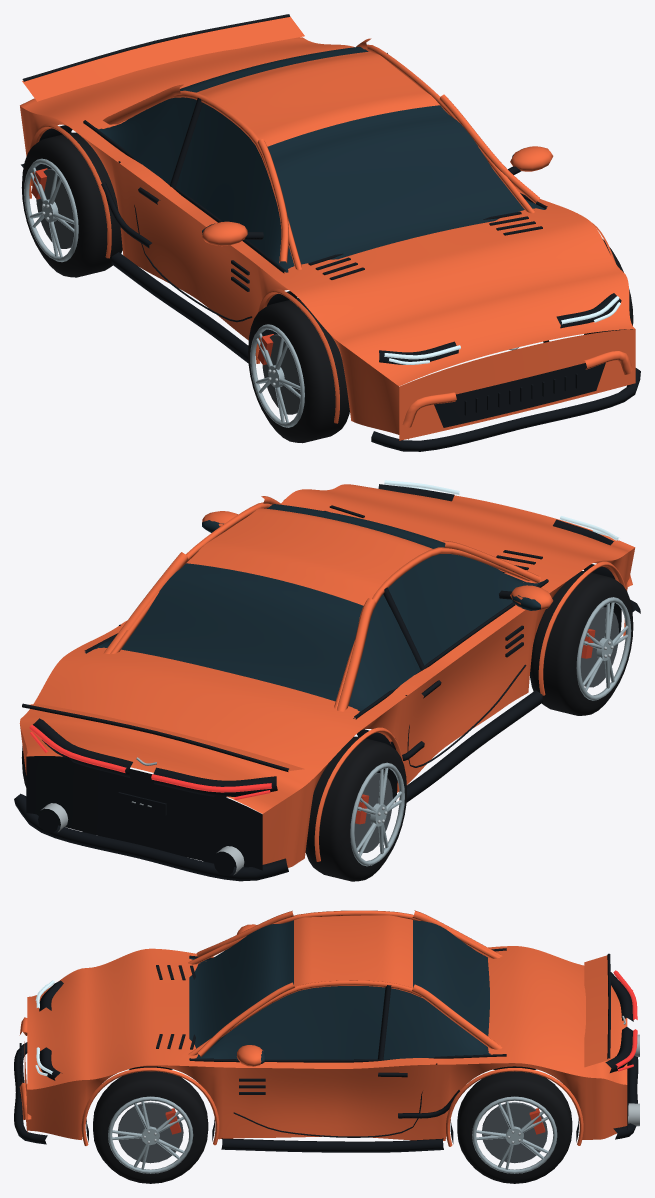
Rendered from kestrel-gt.glb.
3 views of the same model, one above another, from view 1: azimuth 30°, elevation 25°; view 2: azimuth 150°, elevation 25°; view 3: azimuth 270°, elevation 25° (orthographic). The views are drawn at different scales.
Visible parts, largest first — view 1: Kestrel_paint, Kestrel_glass, Kestrel_graphite, wheel_front_left_spin, wheel_rear_left_spin, Kestrel_wheel_finish (×2), wheel_front_left, wheel_rear_left, Kestrel_headlamps; view 2: Kestrel_paint, Kestrel_glass, Kestrel_graphite, wheel_front_left_spin, wheel_rear_left_spin, Kestrel_wheel_finish (×2), Kestrel_brakelights, wheel_front_left, wheel_rear_left, Kestrel_headlamps, Kestrel_brushed_alloy; view 3: Kestrel_paint, Kestrel_glass, Kestrel_graphite, wheel_front_right_spin, wheel_rear_right_spin, Kestrel_wheel_finish (×2), wheel_front_right, wheel_rear_right, Kestrel_brakelights.
Part boxes in pixels (box(x1,y1,x2,y2)): Kestrel_paint: box(20, 16, 635, 440); Kestrel_glass: box(96, 46, 546, 272); Kestrel_graphite: box(21, 14, 640, 451); wheel_front_left_spin: box(248, 298, 349, 443); wheel_rear_left_spin: box(21, 132, 122, 277); Kestrel_wheel_finish (×2): box(24, 158, 304, 427); wheel_front_left: box(257, 334, 300, 414); wheel_rear_left: box(31, 168, 74, 248); Kestrel_headlamps: box(384, 296, 620, 364); Kestrel_paint: box(19, 484, 635, 867); Kestrel_glass: box(85, 504, 543, 718); Kestrel_graphite: box(14, 484, 640, 881); wheel_front_left_spin: box(530, 571, 633, 715); wheel_rear_left_spin: box(305, 736, 406, 881); Kestrel_wheel_finish (×2): box(350, 597, 631, 866); Kestrel_brakelights: box(29, 725, 271, 800); wheel_front_left: box(580, 607, 619, 687); wheel_rear_left: box(354, 773, 392, 852); Kestrel_headlamps: box(384, 480, 619, 540); Kestrel_brushed_alloy: box(41, 757, 244, 874); Kestrel_paint: box(19, 910, 627, 1146); Kestrel_glass: box(189, 920, 502, 1063); Kestrel_graphite: box(14, 948, 638, 1152); wheel_front_right_spin: box(93, 1071, 208, 1183); wheel_rear_right_spin: box(457, 1071, 572, 1183); Kestrel_wheel_finish (×2): box(108, 1096, 557, 1173); wheel_front_right: box(118, 1102, 183, 1163); wheel_rear_right: box(482, 1102, 547, 1163); Kestrel_brakelights: box(613, 970, 637, 1071).
Size of the model in its own units: 2.42 by 1.47 by 4.68.
